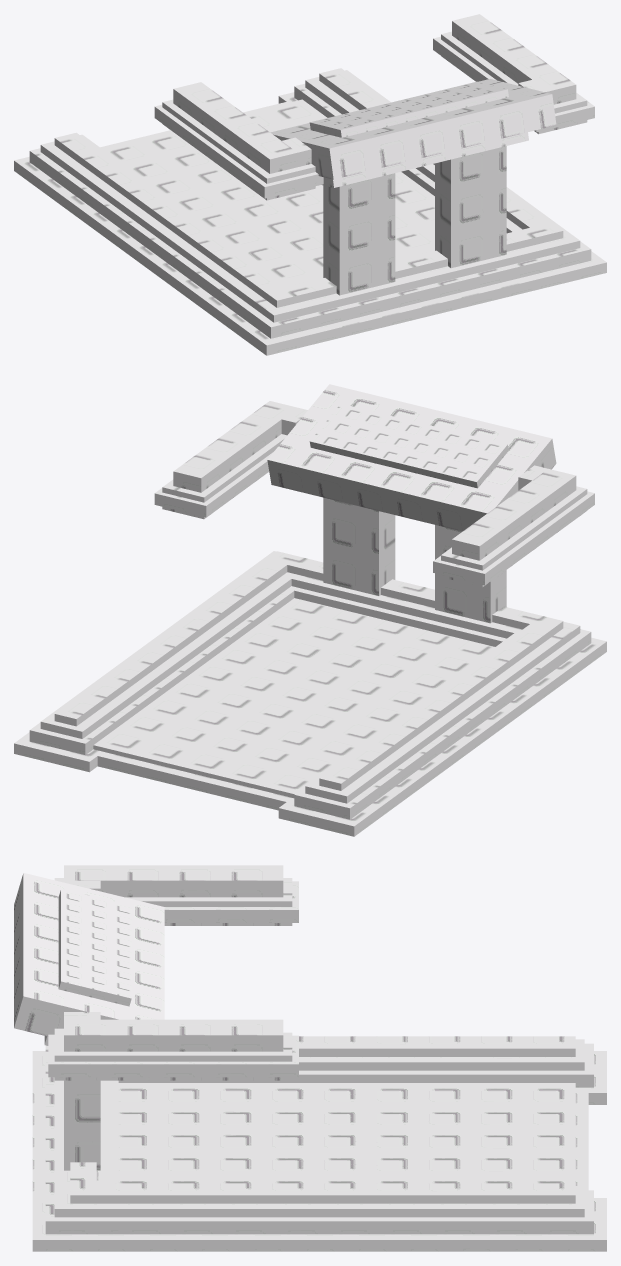
The model's file is 07-speedy.obj.
3 views of the same model, one above another, from view 1: azimuth 30°, elevation 25°; view 2: azimuth 150°, elevation 25°; view 3: azimuth 270°, elevation 25° (orthographic). The views are drawn at different scales.
Parts seen in each view (by area): view 1: Part28, Part31, Part23, Part12, Part10, Part20, Part6, Part25, Part21, Part27, Part29, Part14 (+16 smaller); view 2: Part28, Part14, Part12, Part35, Part33, Part13, Part20, Part10, Part5, Part6, Part23, Part17 (+15 smaller); view 3: Part28, Part11, Part33, Part12, Part13, Part20, Part5, Part19, Part14, Part18, Part15, Part27 (+15 smaller).
Boxes of the visible parts, left/top/right/bottom form: Part28: left=270, top=79, right=556, bottom=179; Part31: left=323, top=173, right=395, bottom=295; Part23: left=435, top=146, right=506, bottom=268; Part12: left=135, top=131, right=323, bottom=277; Part10: left=14, top=156, right=342, bottom=355; Part20: left=101, top=140, right=322, bottom=286; Part6: left=54, top=132, right=286, bottom=298; Part25: left=238, top=241, right=591, bottom=338; Part21: left=249, top=223, right=580, bottom=322; Part27: left=173, top=82, right=297, bottom=173; Part29: left=40, top=134, right=289, bottom=304; Part14: left=309, top=81, right=508, bottom=137; Part28: left=267, top=384, right=556, bottom=531; Part14: left=309, top=403, right=508, bottom=488; Part12: left=218, top=628, right=461, bottom=789; Part35: left=93, top=598, right=335, bottom=759; Part33: left=135, top=608, right=377, bottom=769; Part13: left=177, top=618, right=419, bottom=779; Part20: left=260, top=639, right=494, bottom=798; Part10: left=278, top=637, right=606, bottom=836; Part5: left=54, top=559, right=287, bottom=726; Part6: left=319, top=624, right=551, bottom=790; Part23: left=323, top=497, right=395, bottom=595; Part17: left=294, top=653, right=558, bottom=819; Part28: left=14, top=873, right=164, bottom=1036; Part11: left=32, top=1198, right=606, bottom=1251; Part33: left=118, top=1152, right=575, bottom=1175; Part12: left=118, top=1106, right=575, bottom=1129; Part13: left=118, top=1129, right=575, bottom=1152; Part20: left=118, top=1083, right=575, bottom=1105; Part5: left=96, top=1183, right=575, bottom=1203; Part19: left=118, top=1190, right=593, bottom=1234; Part14: left=58, top=889, right=131, bottom=1006; Part18: left=109, top=1186, right=584, bottom=1217; Part15: left=64, top=1019, right=283, bottom=1051; Part27: left=64, top=865, right=283, bottom=897.
Size of the model in its own units: 8.55 by 4.71 by 11.36.
35 materials, 35 textured.
